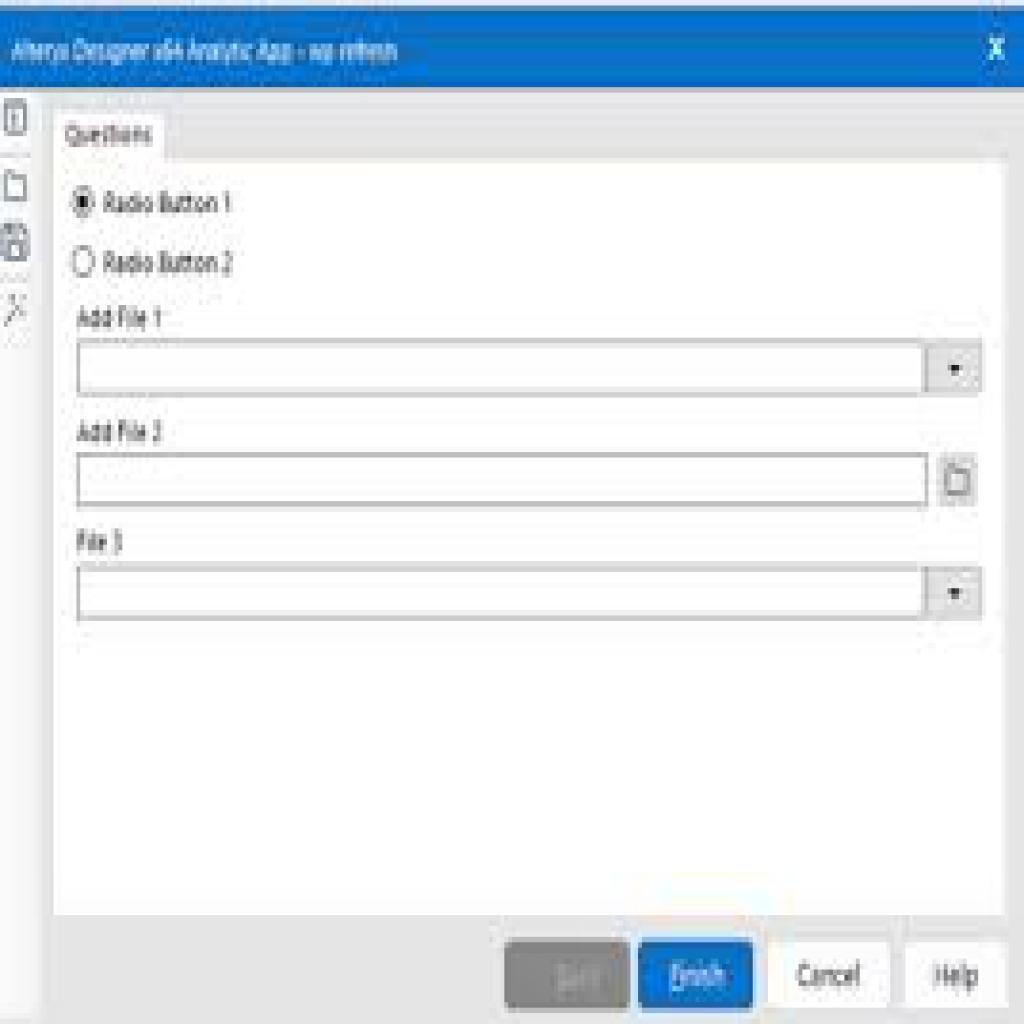button: (503, 937, 630, 1010), (637, 939, 756, 1012), (764, 940, 889, 1009), (903, 941, 1008, 1006), (53, 113, 165, 159)
dropdown: (78, 340, 983, 396), (76, 565, 981, 620)
icon: (0, 287, 33, 336), (0, 220, 32, 267), (939, 459, 974, 500), (1, 164, 33, 206), (0, 96, 31, 137), (981, 31, 1010, 67)
input: (77, 454, 928, 508)
label: (101, 186, 235, 221), (106, 246, 236, 281), (73, 411, 168, 448), (71, 303, 168, 332), (71, 526, 127, 558)
radio: (65, 182, 100, 224), (68, 242, 98, 283)
